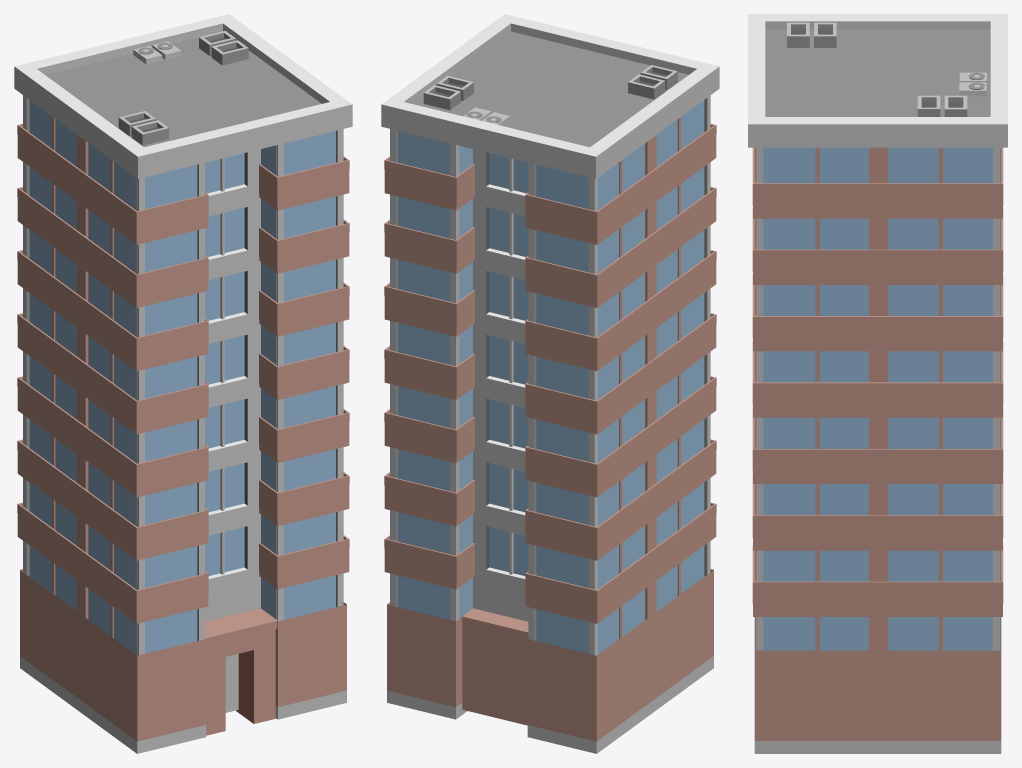
The model's file is house_middle_006.glb.
3 views of the same model, side by side, from view 1: azimuth 30°, elevation 25°; view 2: azimuth 150°, elevation 25°; view 3: azimuth 270°, elevation 25° (orthographic). The views are drawn at different scales.
Visible parts, largest first — view 1: house_middle_006; view 2: house_middle_006; view 3: house_middle_006.
Boxes of the visible parts, x1,y1,x2,y2 form: house_middle_006: (14, 14, 352, 753); house_middle_006: (381, 14, 719, 753); house_middle_006: (748, 14, 1007, 753).
Bounding box in the file's own units: 7.23 × 19.42 × 7.2.
1 material, 1 textured.
